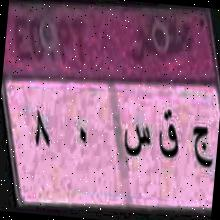0: (75, 125, 90, 149)
8: (32, 107, 52, 158)
jeem: (188, 115, 216, 178)
qaaf: (154, 102, 184, 164)
seen: (121, 118, 153, 170)
